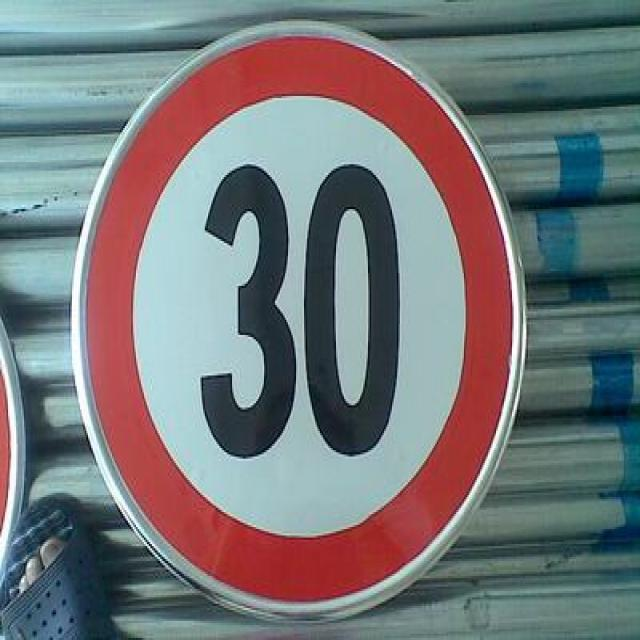speed limit 30: (68, 19, 527, 623)
